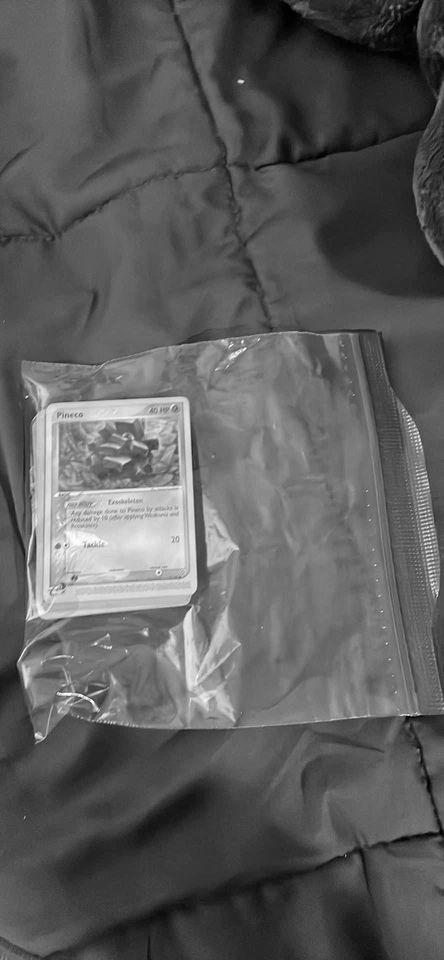card: (43, 395, 198, 602)
